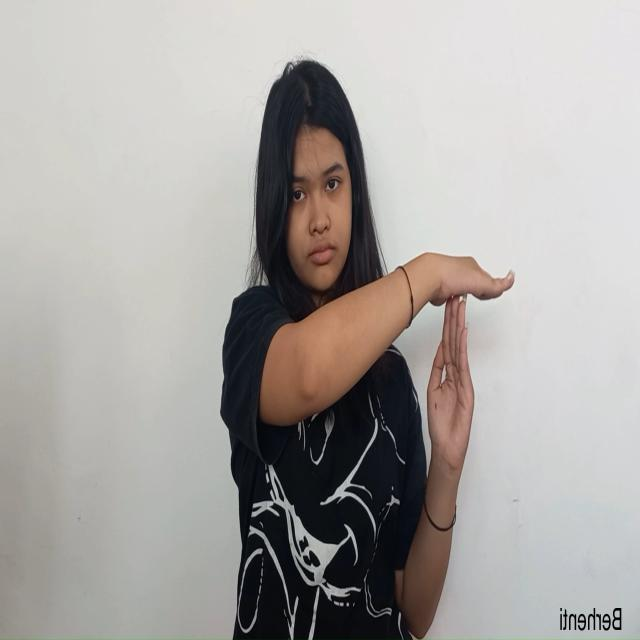Berhenti -BISINDO-: (416, 249, 516, 492)
